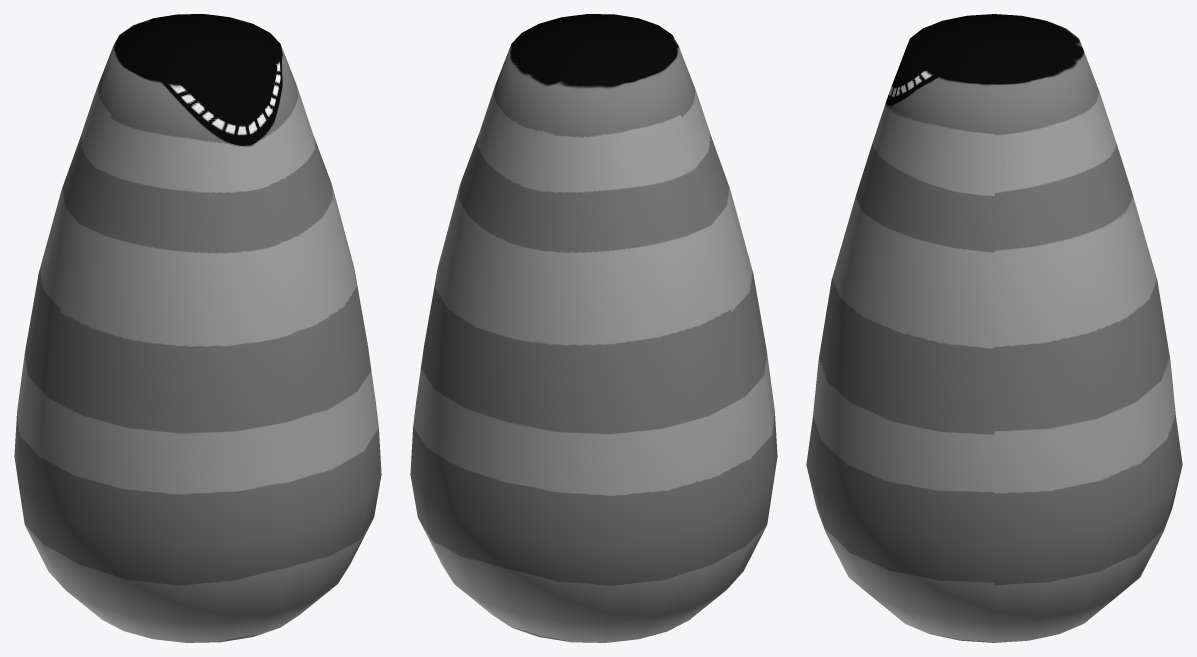
Rendered from body.FBX.
The picture shows the model from 3 angles, left to right: view 1: azimuth 30°, elevation 25°; view 2: azimuth 150°, elevation 25°; view 3: azimuth 270°, elevation 25°; orthographic projection.
Parts seen in each view (by area): view 1: Character; view 2: Character; view 3: Character.
Part boxes in pixels (box(x1,y1,x2,y2)): Character: box(14, 14, 381, 642); Character: box(410, 14, 777, 642); Character: box(806, 14, 1182, 642).
Size of the model in its own units: 198 by 203 by 354.
1 material, 1 textured.
